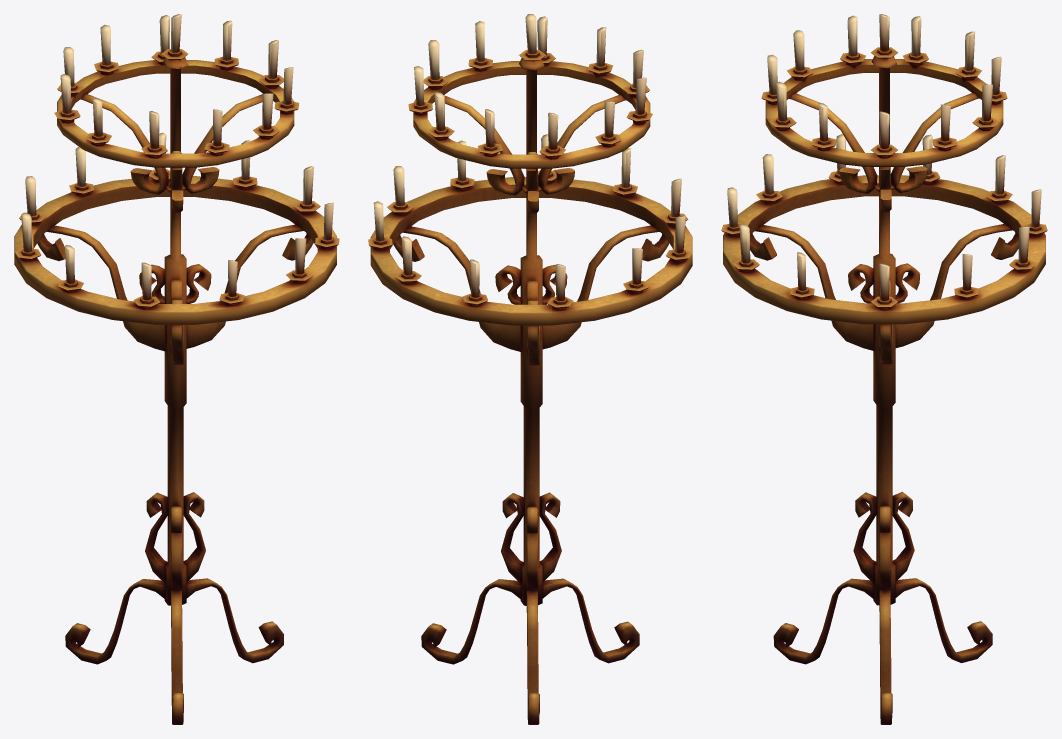
Rendered from SM_Candlestick.fbx.
The picture shows the model from 3 angles, left to right: view 1: azimuth 30°, elevation 25°; view 2: azimuth 150°, elevation 25°; view 3: azimuth 270°, elevation 25°; orthographic projection.
Parts seen in each view (by area): view 1: SM_Candlestick; view 2: SM_Candlestick; view 3: SM_Candlestick.
Part boxes in pixels (x1,y1,x2,y2): SM_Candlestick: (14,14,339,724); SM_Candlestick: (368,14,692,724); SM_Candlestick: (721,14,1047,724).
Size of the model in its own units: 0.931 by 2.1 by 0.934.
